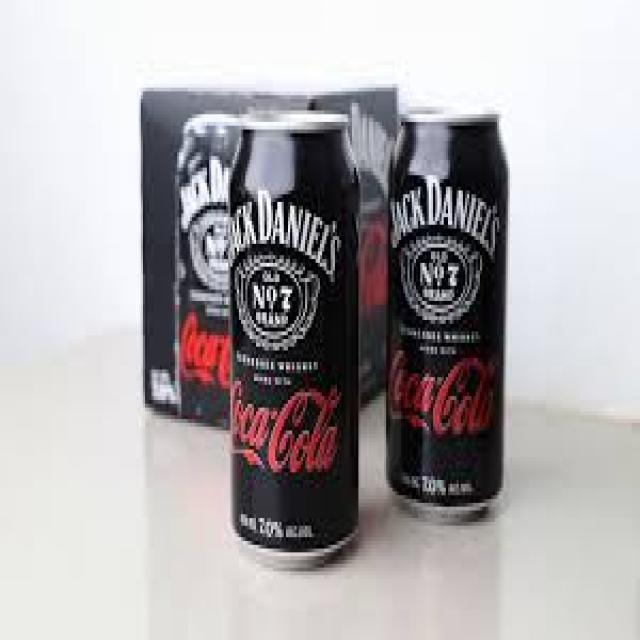Cans: (222, 107, 371, 575), (378, 88, 516, 530)
